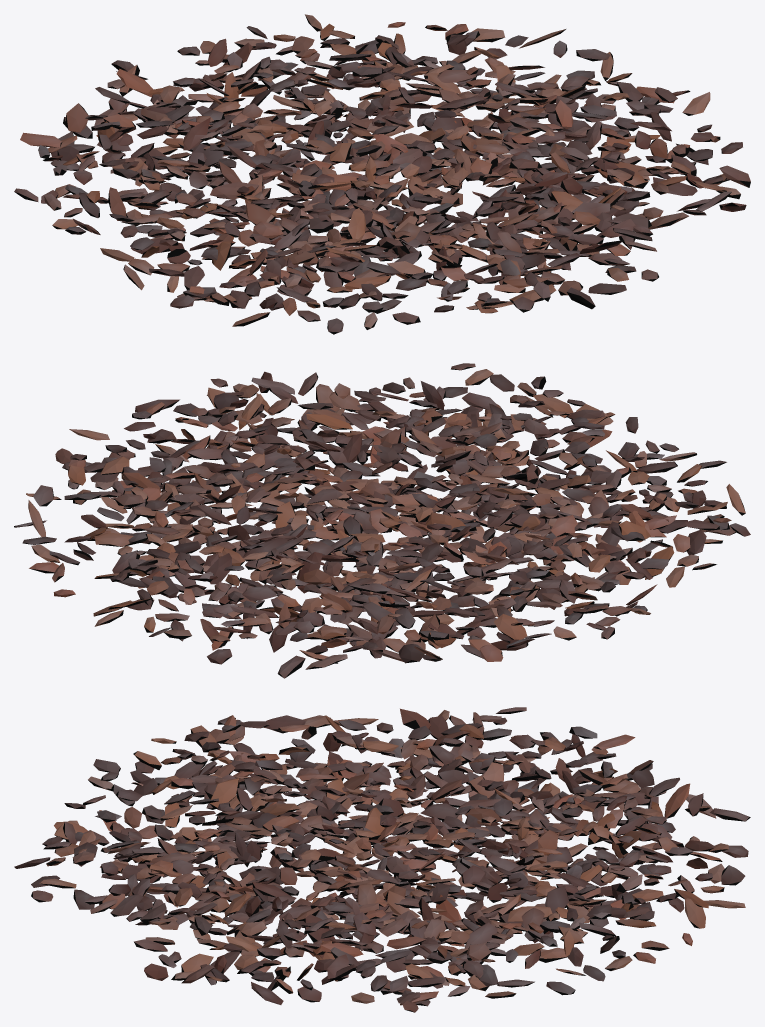
The model's file is HareGround.fbx.
3 views of the same model, one above another, from view 1: azimuth 30°, elevation 25°; view 2: azimuth 150°, elevation 25°; view 3: azimuth 270°, elevation 25° (orthographic).
Parts seen in each view (by area): view 1: Hare_Ground; view 2: Hare_Ground; view 3: Hare_Ground.
Boxes of the visible parts, bbox=[...] form: Hare_Ground: bbox=[14, 14, 750, 334]; Hare_Ground: bbox=[14, 363, 750, 678]; Hare_Ground: bbox=[14, 707, 750, 1012].
Size of the model in its own units: 1.74 by 0.0966 by 1.81.
1 material, 1 textured.
